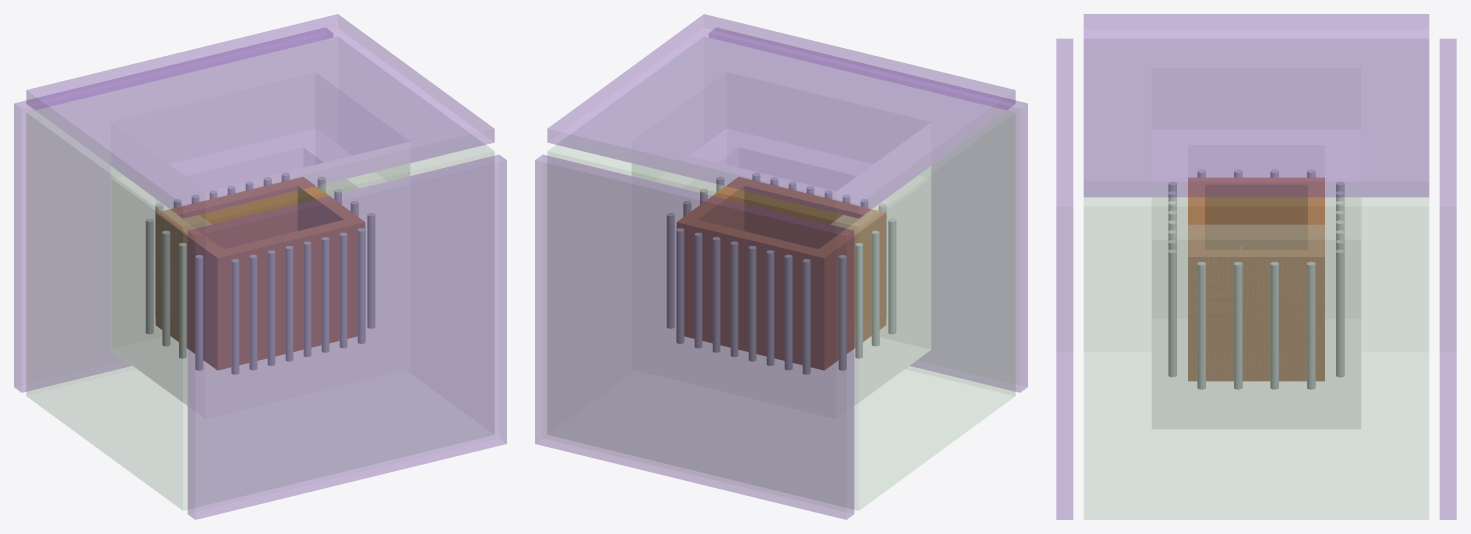
File: dfm_house.glb
3 renders of one model, left to right at view 1: azimuth 30°, elevation 25°; view 2: azimuth 150°, elevation 25°; view 3: azimuth 270°, elevation 25°, orthographic. The views are drawn at different scales.
Parts seen in each view (by area): view 1: borated_HDPE_20cm_plus_Cd, muon_veto_side_S, muon_veto_top, muon_veto_side_N, Cu_inner_shield_5cm, HDPE_moderator_3He_bank, He3_tubes_24x; view 2: borated_HDPE_20cm_plus_Cd, muon_veto_side_N, muon_veto_top, muon_veto_side_S, Cu_inner_shield_5cm, HDPE_moderator_3He_bank, He3_tubes_24x; view 3: borated_HDPE_20cm_plus_Cd, muon_veto_top, HDPE_moderator_3He_bank, Cu_inner_shield_5cm, He3_tubes_24x, muon_veto_side_S, muon_veto_side_N.
Boxes of the visible parts, box(x1,y1,x2,y2) form: borated_HDPE_20cm_plus_Cd: box(26, 37, 494, 510); muon_veto_side_S: box(188, 155, 506, 519); muon_veto_top: box(26, 14, 494, 218); muon_veto_side_N: box(14, 28, 332, 392); Cu_inner_shield_5cm: box(155, 177, 364, 370); HDPE_moderator_3He_bank: box(111, 129, 386, 404); He3_tubes_24x: box(145, 173, 374, 374); borated_HDPE_20cm_plus_Cd: box(547, 37, 1015, 510); muon_veto_side_N: box(535, 155, 853, 519); muon_veto_top: box(547, 14, 1015, 218); muon_veto_side_S: box(709, 28, 1027, 392); Cu_inner_shield_5cm: box(677, 177, 886, 370); HDPE_moderator_3He_bank: box(655, 129, 930, 404); He3_tubes_24x: box(667, 173, 896, 374); borated_HDPE_20cm_plus_Cd: box(1084, 39, 1428, 519); muon_veto_top: box(1084, 14, 1428, 196); HDPE_moderator_3He_bank: box(1152, 130, 1360, 428); Cu_inner_shield_5cm: box(1188, 177, 1324, 381); He3_tubes_24x: box(1168, 169, 1344, 389); muon_veto_side_S: box(1056, 39, 1072, 519); muon_veto_side_N: box(1440, 39, 1456, 519).
Size of the model in its own units: 1160 by 1090 by 1170.
